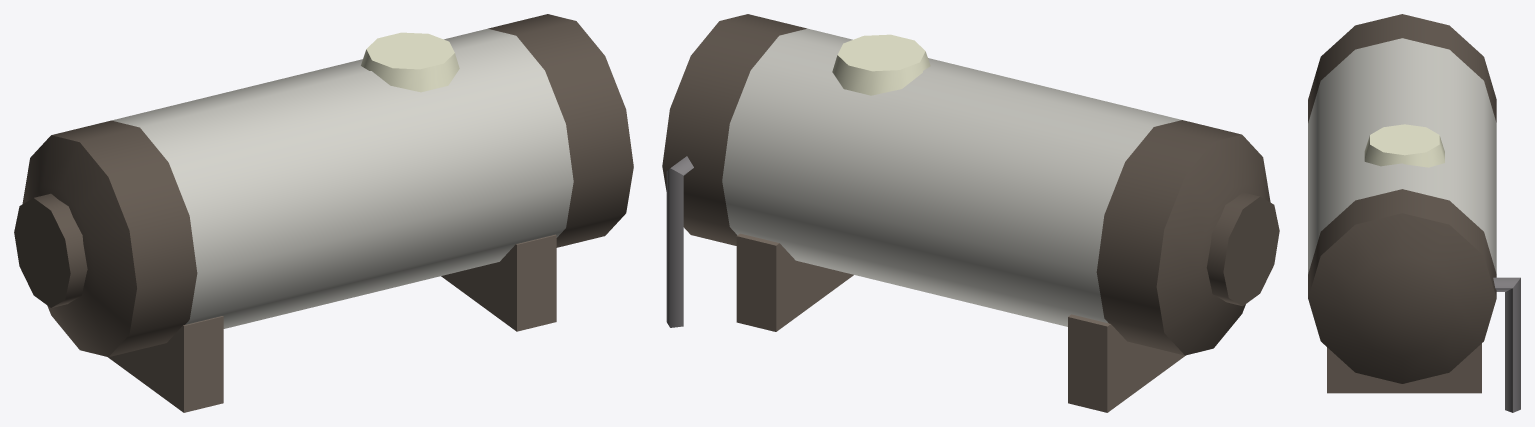
File: gastank1.fbx
The picture shows the model from 3 angles, left to right: view 1: azimuth 30°, elevation 25°; view 2: azimuth 150°, elevation 25°; view 3: azimuth 270°, elevation 25°; orthographic projection. The views are drawn at different scales.
Visible parts, largest first — view 1: gastank1; view 2: gastank1; view 3: gastank1.
Boxes of the visible parts, x1,y1,x2,y2 form: gastank1: [14, 14, 633, 412]; gastank1: [662, 14, 1279, 412]; gastank1: [1308, 14, 1520, 412].
Size of the model in its own units: 697 by 307 by 277.
